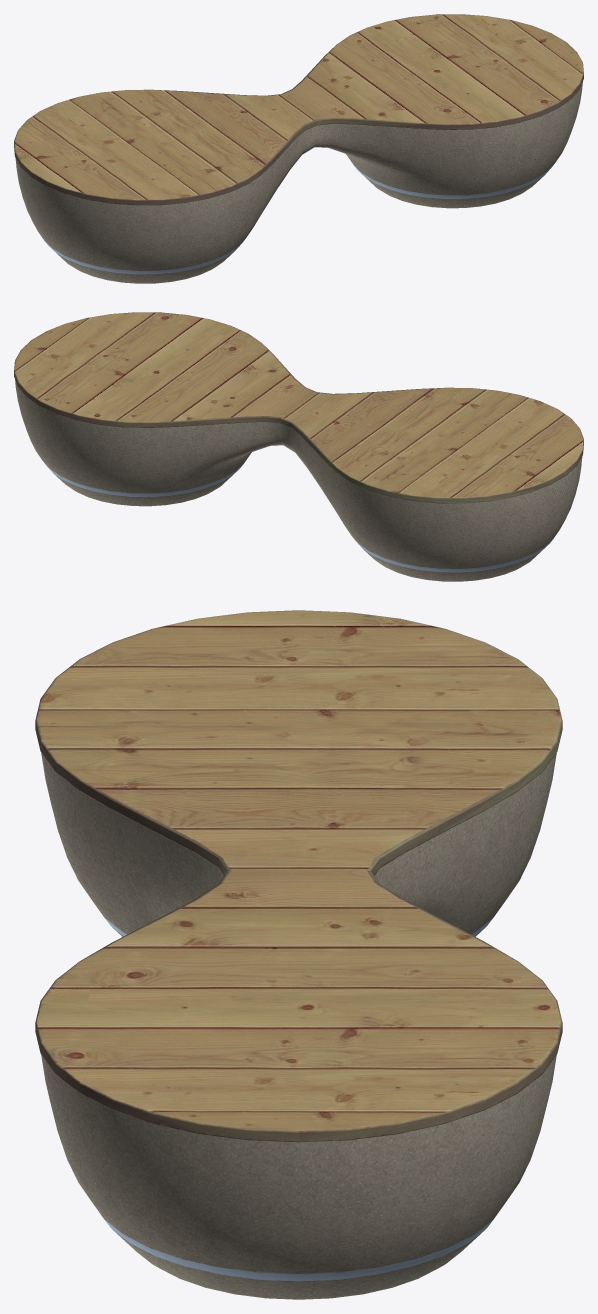
The picture shows the model from 3 angles, top to bottom: view 1: azimuth 30°, elevation 25°; view 2: azimuth 150°, elevation 25°; view 3: azimuth 270°, elevation 25°; orthographic projection. The views are drawn at different scales.
Visible parts, largest first — view 1: SM_84; view 2: SM_84; view 3: SM_84.
Part boxes in pixels (x1,y1,x2,y2): SM_84: (14, 14, 583, 283); SM_84: (14, 312, 583, 581); SM_84: (35, 610, 562, 1299).
Size of the model in its own units: 2.59 by 0.4789 by 1.1.
Materials: 1 (1 with a texture image).
